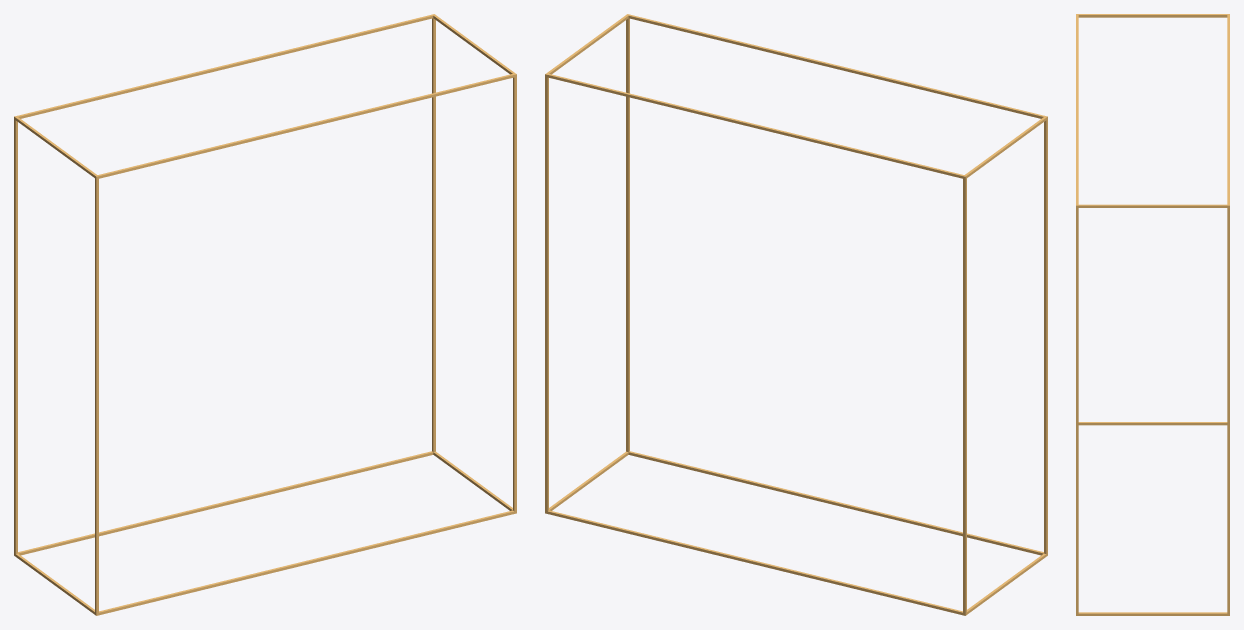
File: rocket_wingsuits.glb
3 views of the same model, side by side, from view 1: azimuth 30°, elevation 25°; view 2: azimuth 150°, elevation 25°; view 3: azimuth 270°, elevation 25° (orthographic). The views are drawn at different scales.
Visible parts, largest first — view 1: box_0; view 2: box_0; view 3: box_0.
Part boxes in pixels (left/top/right/bottom): box_0: left=14, top=14, right=516, bottom=615; box_0: left=545, top=14, right=1047, bottom=615; box_0: left=1076, top=14, right=1229, bottom=615.
Bounding box in the file's own units: 1.68 × 1.68 × 0.5711.
